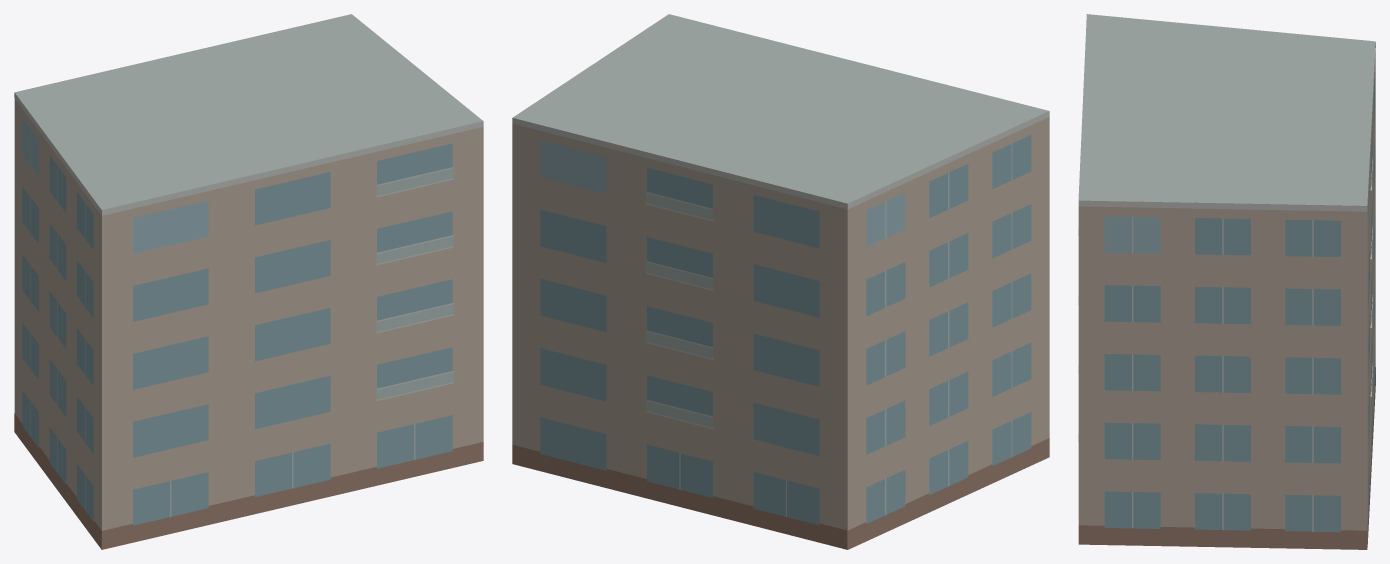
File: survey-upis-32769348.glb
The picture shows the model from 3 angles, left to right: view 1: azimuth 30°, elevation 25°; view 2: azimuth 150°, elevation 25°; view 3: azimuth 270°, elevation 25°; orthographic projection.
Visible parts, largest first — view 1: survey-upis-32769348.tmp; view 2: survey-upis-32769348.tmp; view 3: survey-upis-32769348.tmp.
Part boxes in pixels (left/top/right/bottom): survey-upis-32769348.tmp: left=14, top=14, right=483, bottom=549; survey-upis-32769348.tmp: left=512, top=14, right=1049, bottom=549; survey-upis-32769348.tmp: left=1078, top=14, right=1375, bottom=549.
Size of the model in its own units: 17.36 by 14.5 by 11.38.
